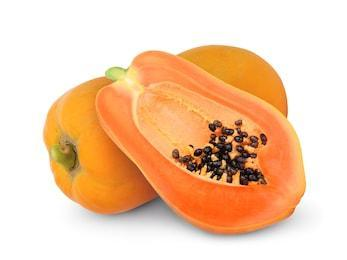papaya: (44, 43, 288, 214), (94, 52, 306, 235)
